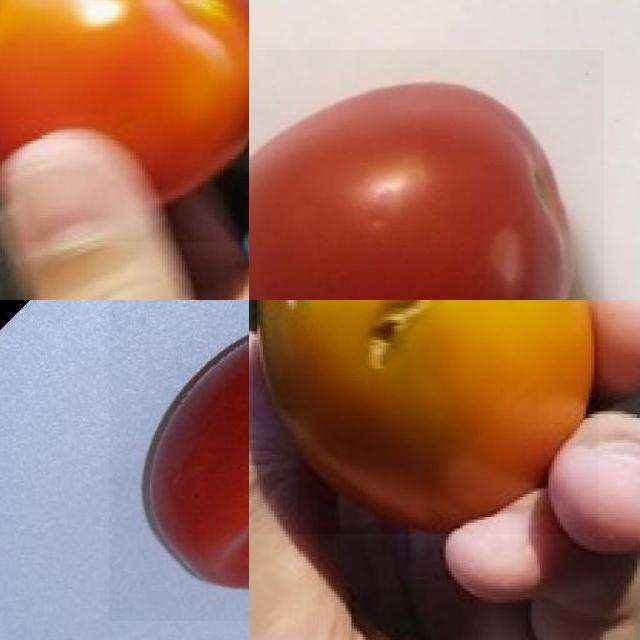Fresh Tomato: (249, 50, 604, 300), (0, 0, 249, 242), (109, 300, 249, 620)
Rotten Tomato: (252, 300, 597, 534)
